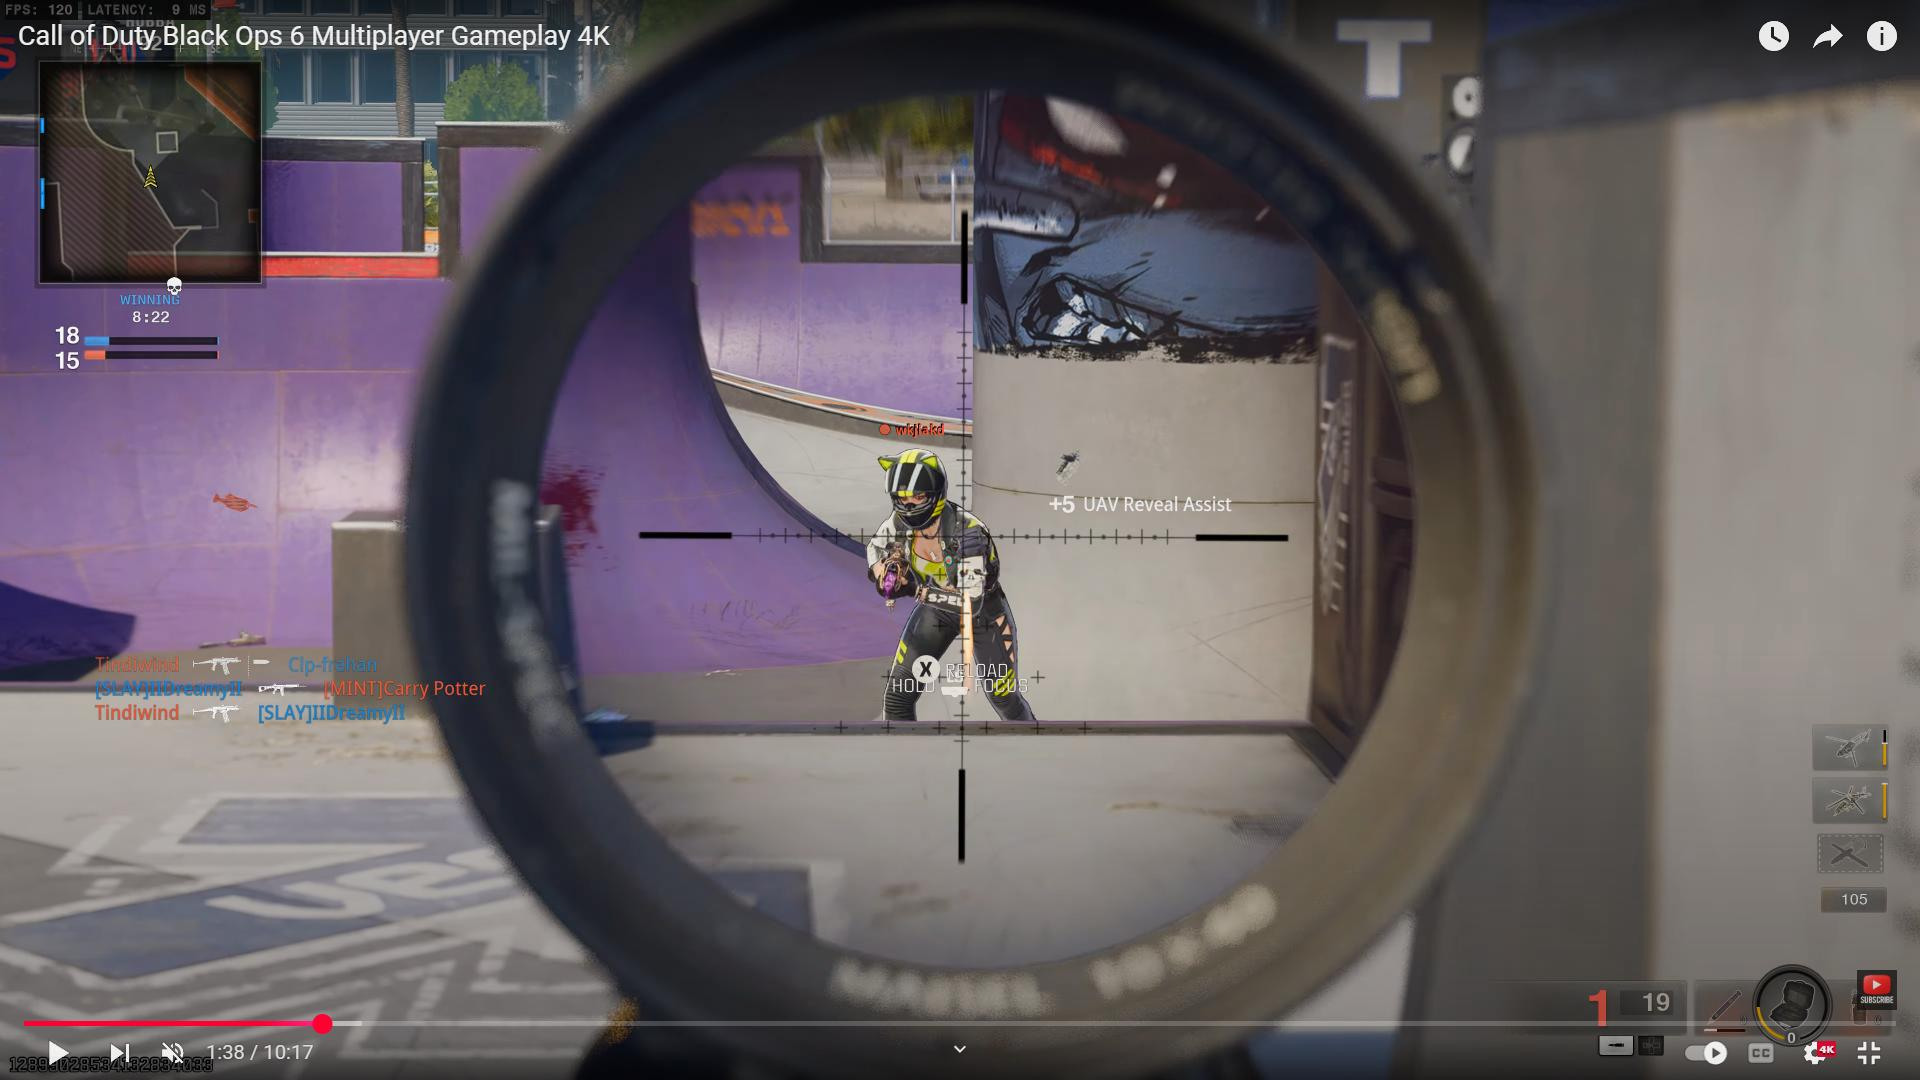Enemy: (833, 439, 1046, 721)
